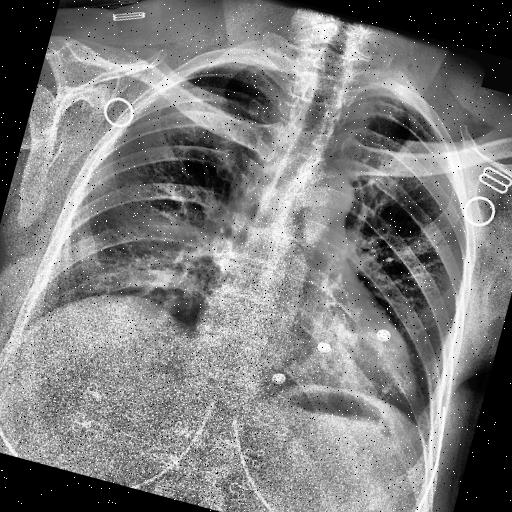0- Aortic enlargement: (286, 160, 356, 254), (288, 155, 362, 236), (281, 161, 358, 235)
3- Cardiomegaly: (184, 242, 442, 416), (177, 286, 431, 428), (185, 280, 434, 418)
7- Lung Opacity: (27, 188, 239, 352), (36, 189, 228, 352)
